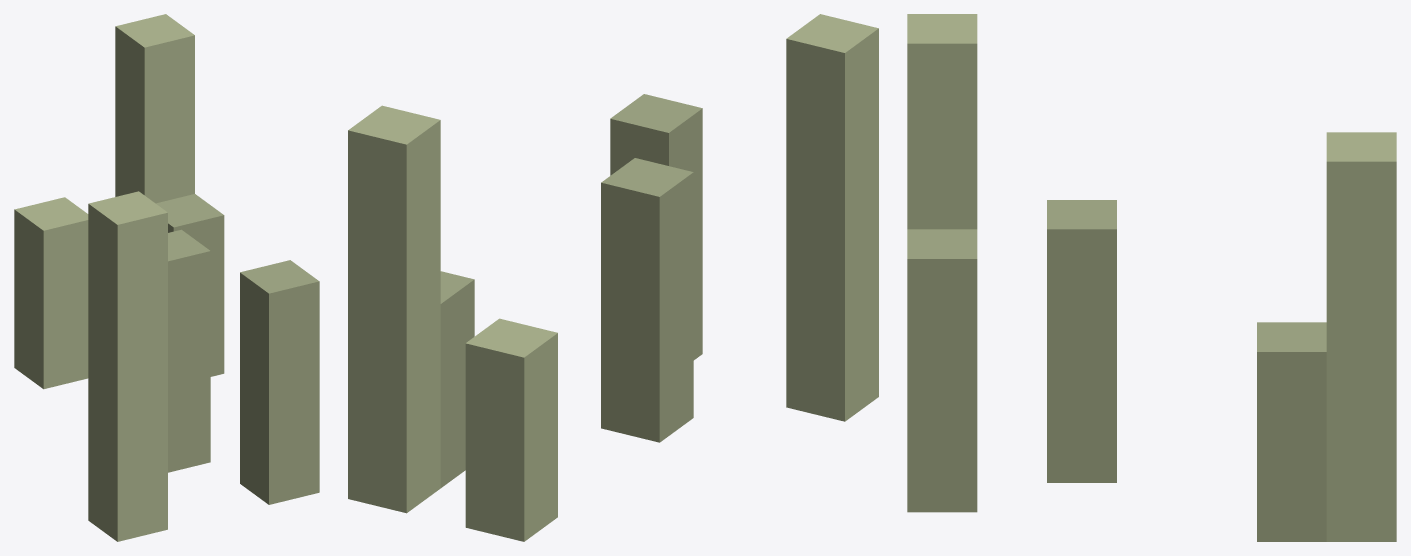
File: tomillo_05.glb
The picture shows the model from 3 angles, left to right: view 1: azimuth 30°, elevation 25°; view 2: azimuth 150°, elevation 25°; view 3: azimuth 270°, elevation 25°; orthographic projection. The views are drawn at different scales.
Visible parts, largest first — view 1: tomillo_05; view 2: tomillo_05; view 3: tomillo_05.
Boxes of the visible parts, x1,y1,x2,y2 form: tomillo_05: [14, 14, 319, 541]; tomillo_05: [348, 14, 878, 541]; tomillo_05: [907, 14, 1396, 541].
Bounding box in the file's own units: 0.5 × 0.6 × 0.7.
